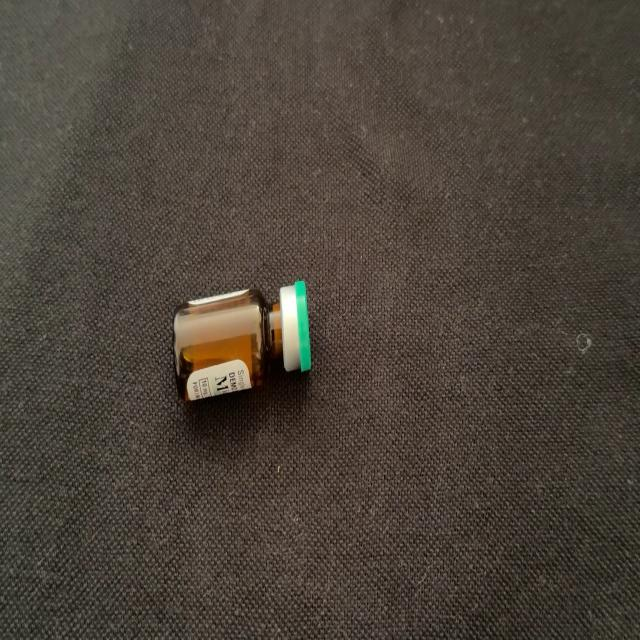midazolm: (176, 283, 309, 400)
